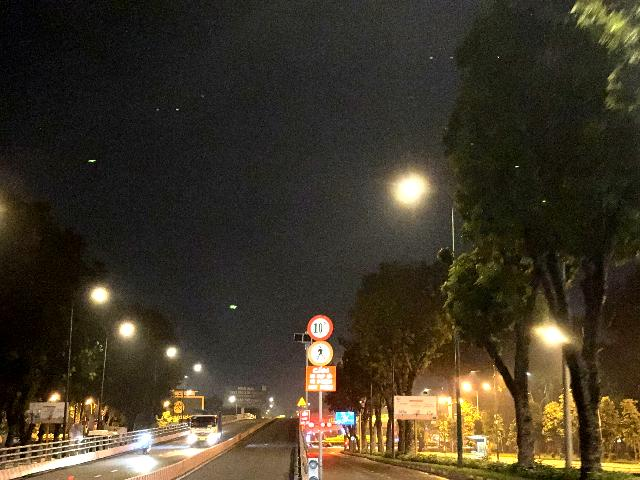cam-nguoi-di-bo: (307, 341, 333, 366)
han-che-trong-luong-xe: (307, 314, 333, 341)
